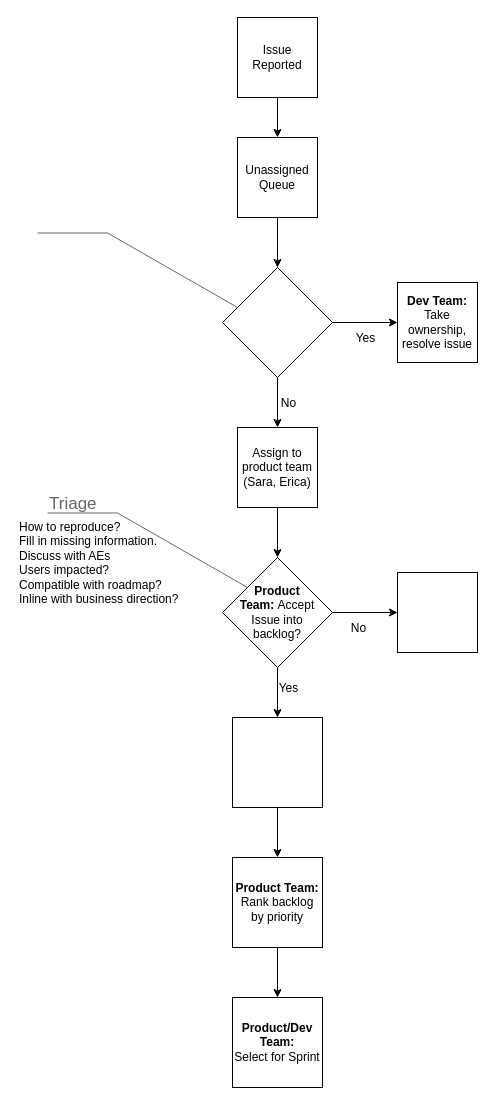
Image size: 495x1105. Some labels were removed from this diagram. Here are the shapes that lost their labels. From the top down, the centre of each, then its label:
At (137,257): "Dev Team: Michael Keith Mike Matt".
At (277,322): "Dev Team: outage or critical failure?".
At (437,612): "Product Team: Respond, close issue".
At (277,762): "Product Team: Response, create backlog ticket, close issue".
